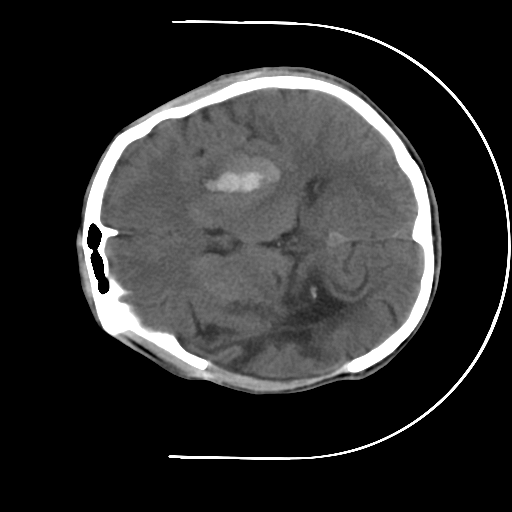a: (188, 146, 287, 201)
